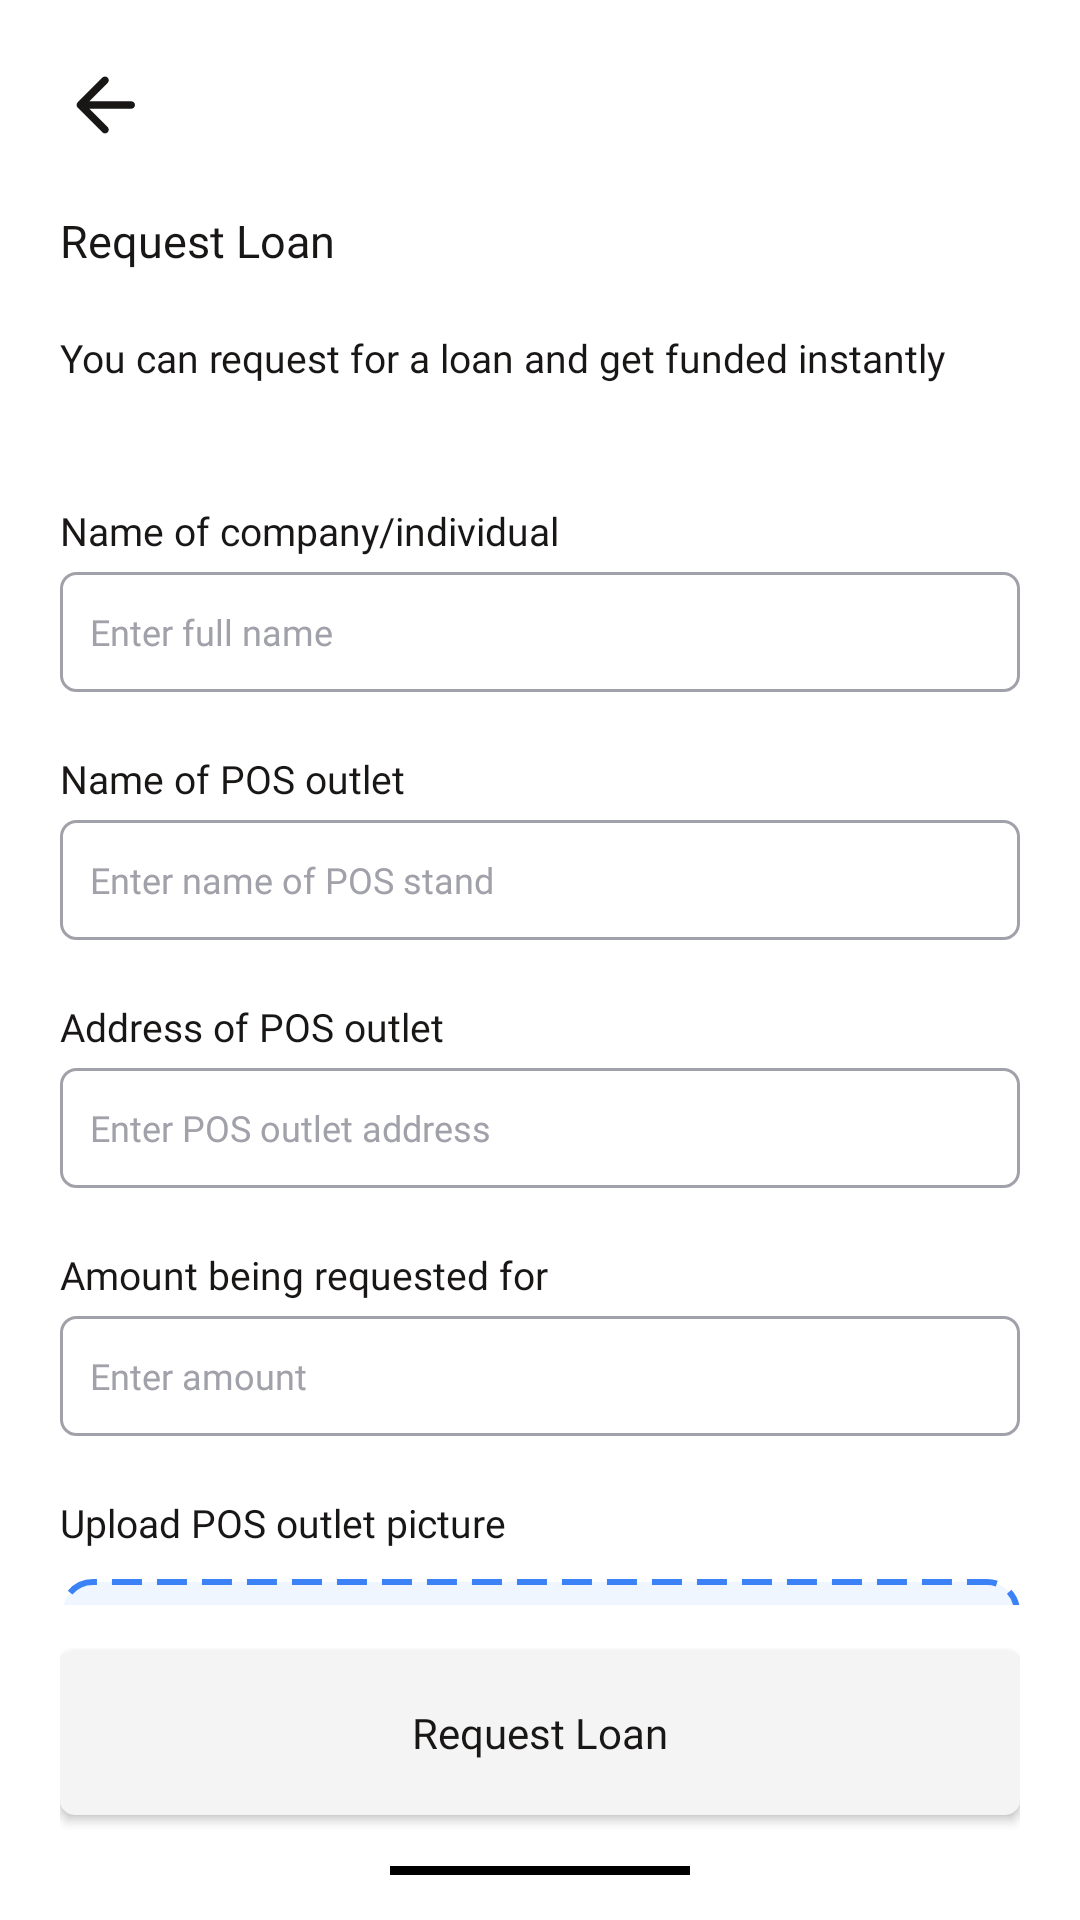

Where to tap for icons on this 1080px x 1920px app screen, as point (x, y):
arrow left: point (105, 105)
